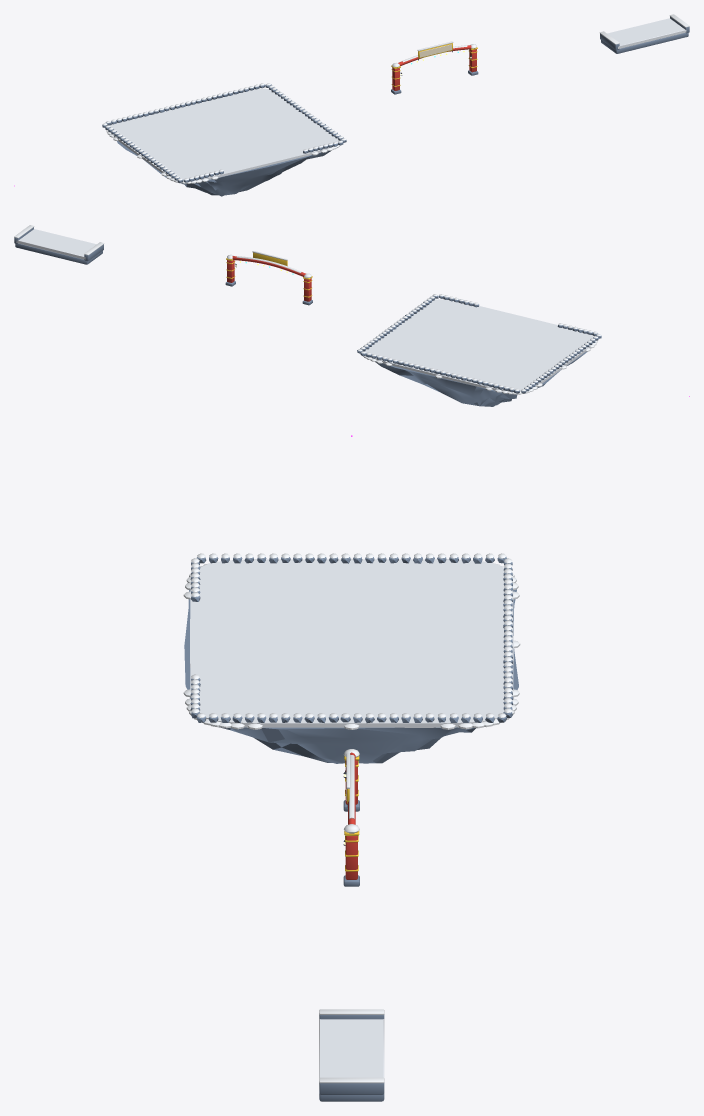
Rendered from CT_Yard.fbx.
3 renders of one model, top to bottom at view 1: azimuth 30°, elevation 25°; view 2: azimuth 150°, elevation 25°; view 3: azimuth 270°, elevation 25°, orthographic. The views are drawn at different scales.
Visible parts, largest first — view 1: YardPad__TintGround__F2F7FFSP, YardPad__TintRock__7F92ACSP, YardPad__Snow__F6FAFFSP, YardPad__TintCurb__7F92ACSP, YardBridge__TintGround__F2F7FFSP, YardBridge__TintRock__7F92ACSP, YardGate__TintAccent__E2483DSP; view 2: YardPad__TintGround__F2F7FFSP, YardPad__TintRock__7F92ACSP, YardPad__Snow__F6FAFFSP, YardPad__TintCurb__7F92ACSP, YardBridge__TintGround__F2F7FFSP, YardBridge__TintRock__7F92ACSP, YardGate__TintAccent__E2483DSP, YardGate__Snow__F6FAFFSP, YardGate__TintTrim__FFD23ASP; view 3: YardPad__TintGround__F2F7FFSP, YardPad__TintRock__7F92ACSP, YardPad__Snow__F6FAFFSP, YardBridge__TintGround__F2F7FFSP, YardPad__TintCurb__7F92ACSP, YardBridge__TintRock__7F92ACSP.
Boxes of the visible parts, x1,y1,x2,y2 form: YardPad__TintGround__F2F7FFSP: (110,88,339,180); YardPad__TintRock__7F92ACSP: (117,141,330,196); YardPad__Snow__F6FAFFSP: (103,83,345,183); YardPad__TintCurb__7F92ACSP: (102,84,346,182); YardBridge__TintGround__F2F7FFSP: (607,18,686,48); YardBridge__TintRock__7F92ACSP: (600,16,689,53); YardGate__TintAccent__E2483DSP: (392,45,476,90); YardPad__TintGround__F2F7FFSP: (364,299,592,391); YardPad__TintRock__7F92ACSP: (375,351,587,406); YardPad__Snow__F6FAFFSP: (358,294,600,394); YardPad__TintCurb__7F92ACSP: (357,295,601,393); YardBridge__TintGround__F2F7FFSP: (16,229,96,259); YardBridge__TintRock__7F92ACSP: (14,227,103,264); YardGate__TintAccent__E2483DSP: (227,256,311,301); YardGate__Snow__F6FAFFSP: (227,251,311,278); YardGate__TintTrim__FFD23ASP: (226,252,312,297); YardPad__TintGround__F2F7FFSP: (190,559,513,727); YardPad__TintRock__7F92ACSP: (184,589,518,763); YardPad__Snow__F6FAFFSP: (183,553,520,729); YardBridge__TintGround__F2F7FFSP: (319,1019,384,1077); YardPad__TintCurb__7F92ACSP: (190,557,513,722); YardBridge__TintRock__7F92ACSP: (319,1014,384,1101).
Size of the model in its own units: 286 by 40.55 by 62.38.
